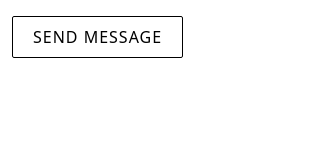
StartChatButton › shows the error and stays on the page when the conversation cannot be started
Step 1. Click the button "Send message" → (98, 37), box [12,16,183,58]
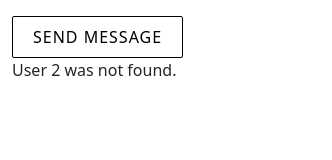
Check: the message reads "User 2 was not found.", box [12,59,176,81]
